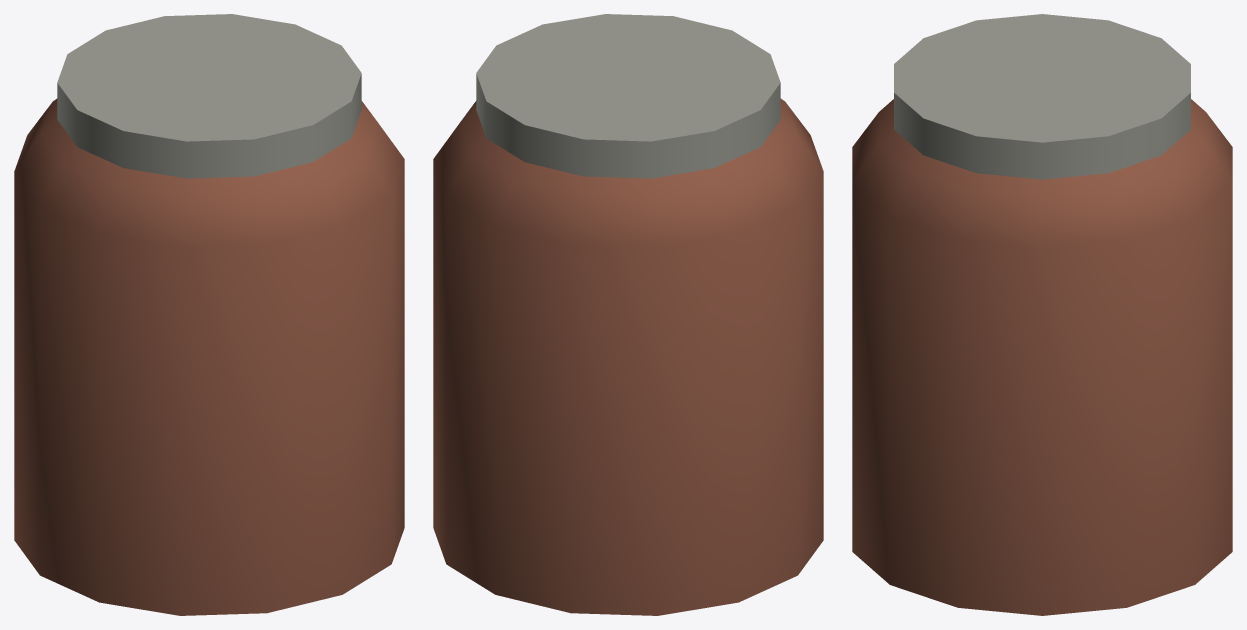
Rendered from tpl_dispensa_vaso_s_fagioli.glb.
3 renders of one model, left to right at view 1: azimuth 30°, elevation 25°; view 2: azimuth 150°, elevation 25°; view 3: azimuth 270°, elevation 25°, orthographic.
Parts seen in each view (by area): view 1: tpl_dispensa_vaso_s_fagioli; view 2: tpl_dispensa_vaso_s_fagioli; view 3: tpl_dispensa_vaso_s_fagioli.
Boxes of the visible parts, x1,y1,x2,y2 form: tpl_dispensa_vaso_s_fagioli: (14,14,404,615); tpl_dispensa_vaso_s_fagioli: (433,14,823,615); tpl_dispensa_vaso_s_fagioli: (852,14,1232,615).
Bounding box in the file's own units: 0.09 × 0.1158 × 0.0877.
